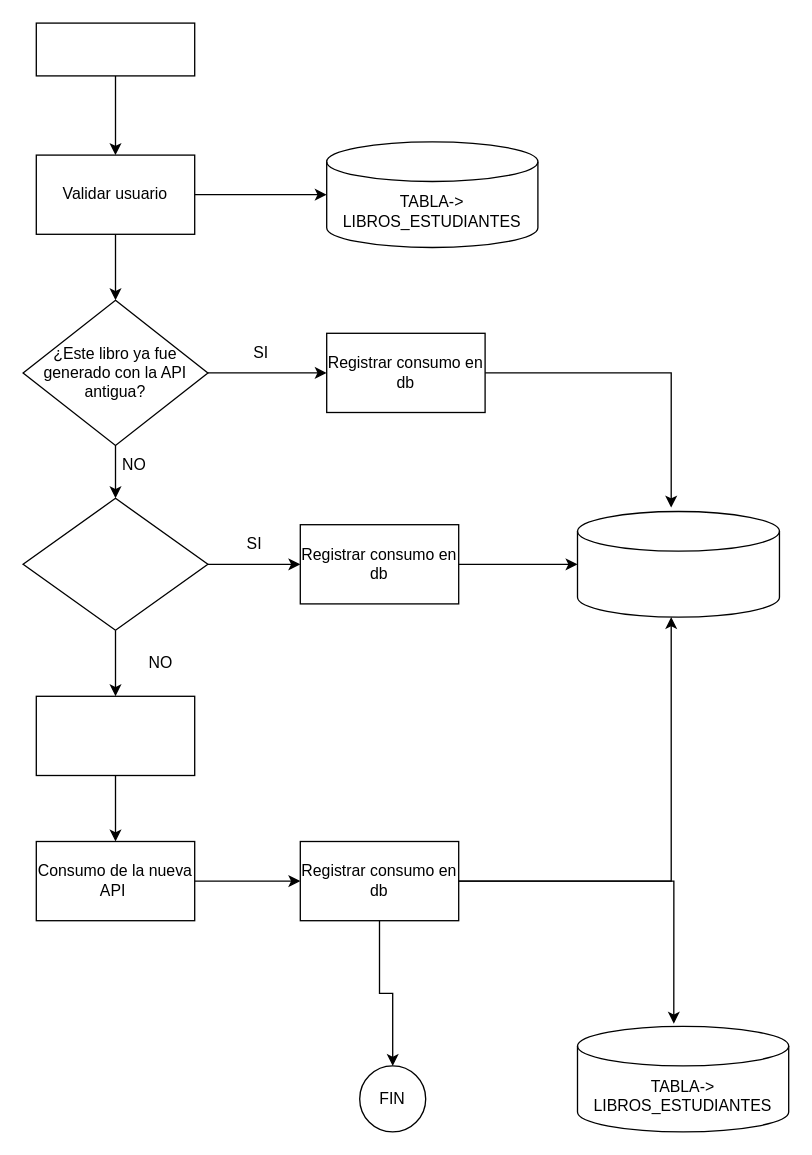
Image size: 812x1155. Some labels were removed from this diagram. The shapes that lost their labels are listed below. From the top down, each one's centre as x and y in pixels, then its label:
point (115, 49): Generar Libro
point (115, 563): ¿Este libro ya fue generado con la API nueva?
point (677, 563): Tabla-> GES_CONSUMO
point (115, 735): Consumo inventario Digital Content
